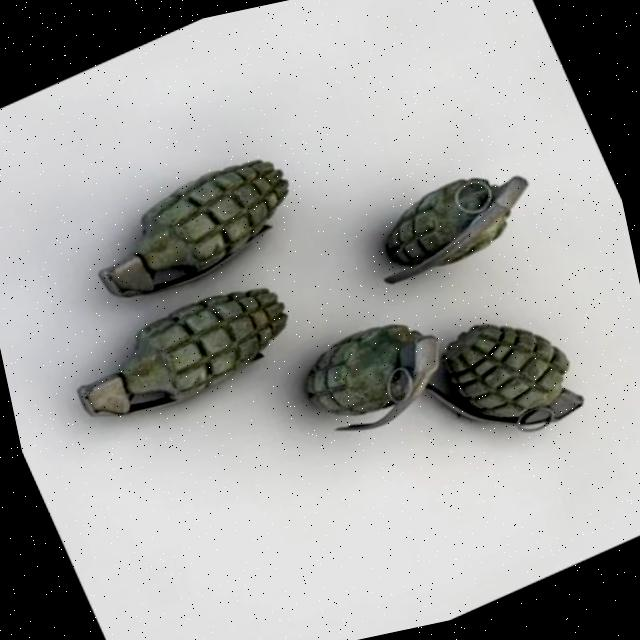grenade: (0, 38, 640, 640)
